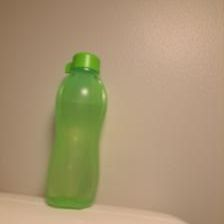bottle: (44, 52, 108, 210)
